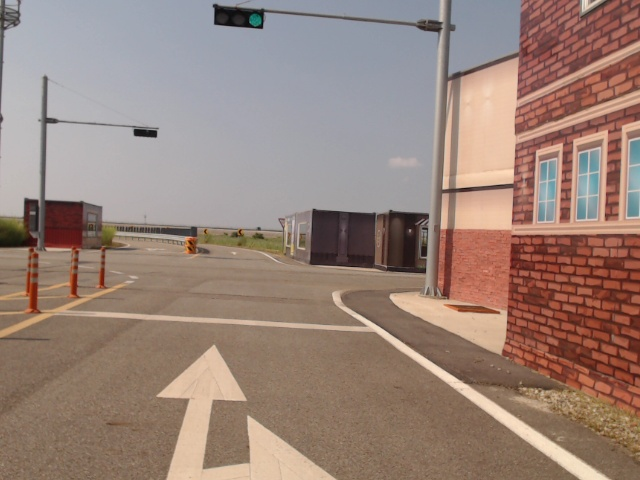green_3: (215, 5, 263, 30)
